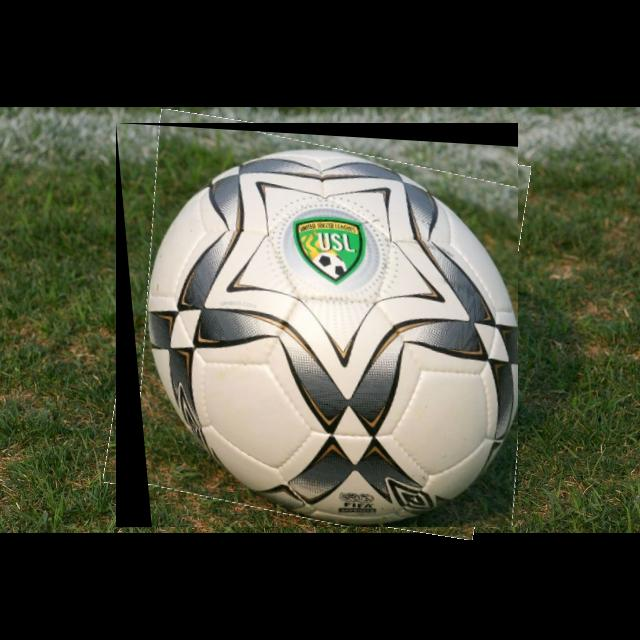Football: (116, 123, 518, 527)
